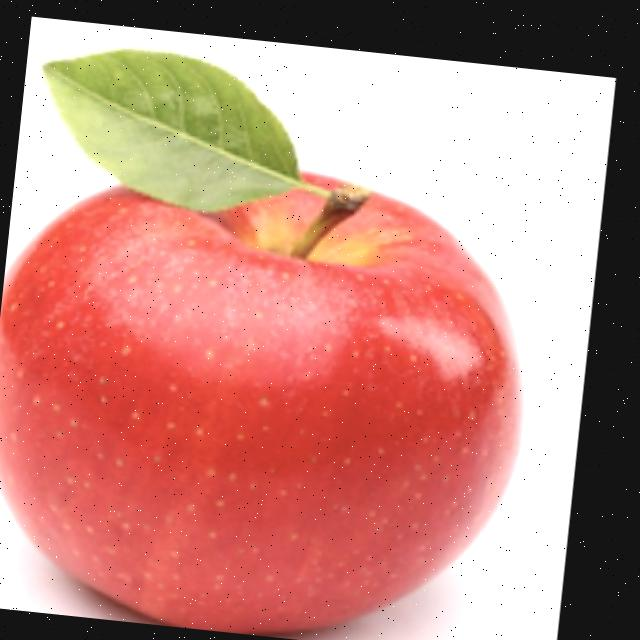Ripe: (0, 127, 554, 640)
